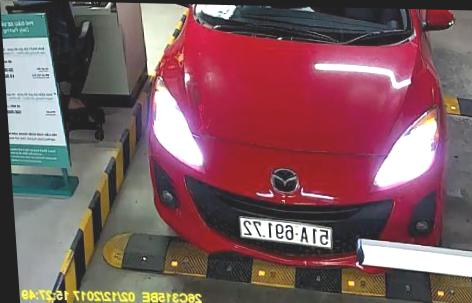License_Plate: (238, 219, 335, 246)
